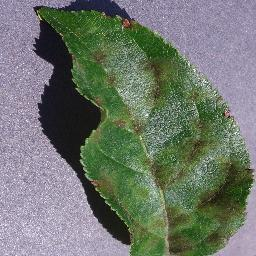apple healthy: (32, 1, 255, 255)
